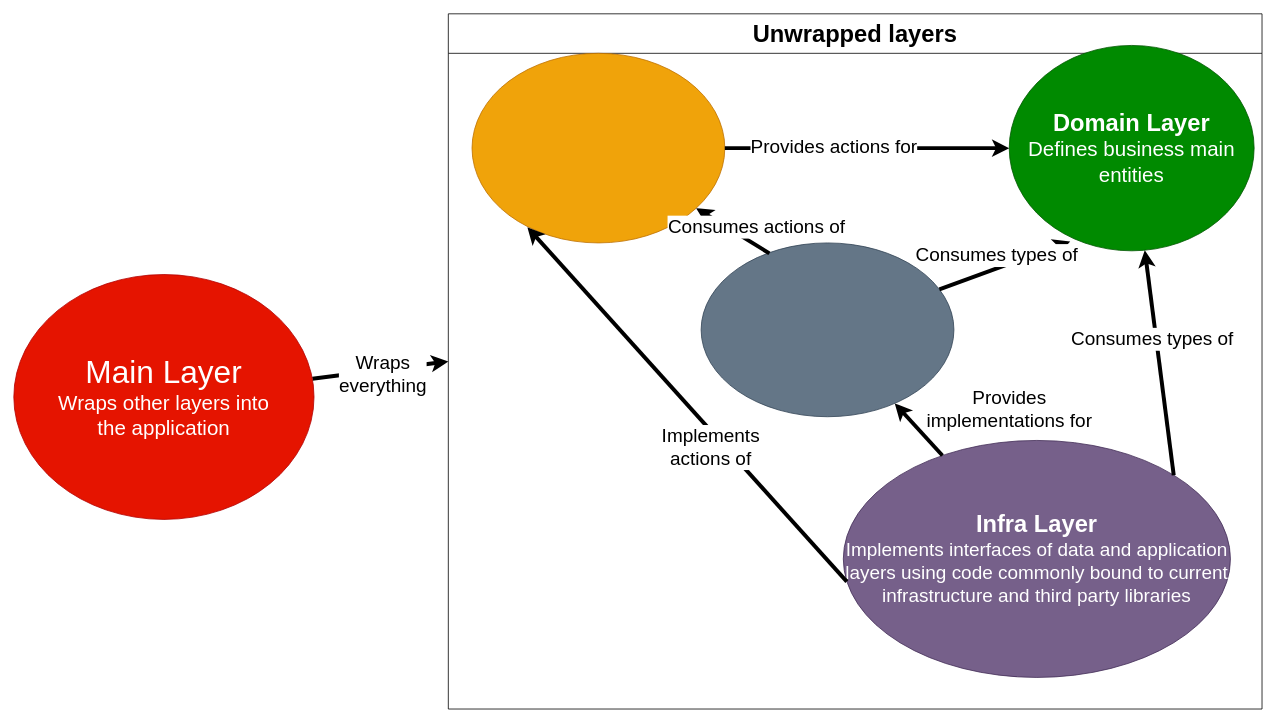
This 1276x723 diagram has some shape labels left out. Here are the shapes that lost their labels. From the top down, the centre of each, then its label:
At [598,148]: "Data Layer Provides interfaces to the application layer".
At [827,329]: "Application Layer Handle core business logic".
